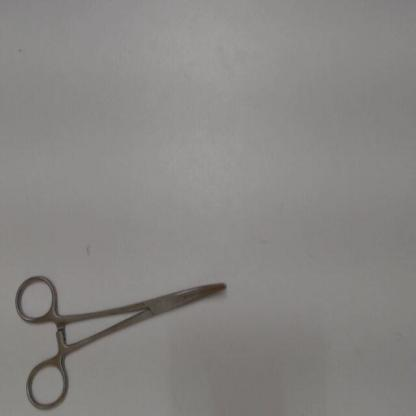Crile Artery Forceps: (12, 266, 233, 413)
